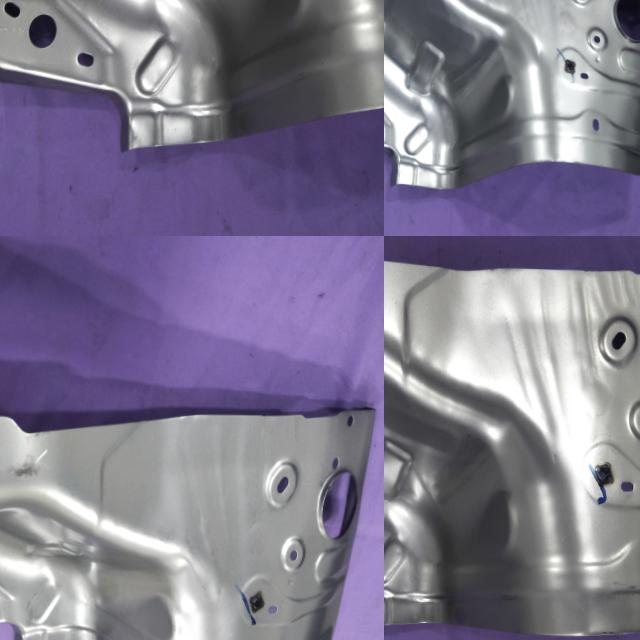Healthy: (384, 241, 640, 640), (0, 393, 377, 640), (0, 0, 384, 162), (384, 0, 640, 199)
